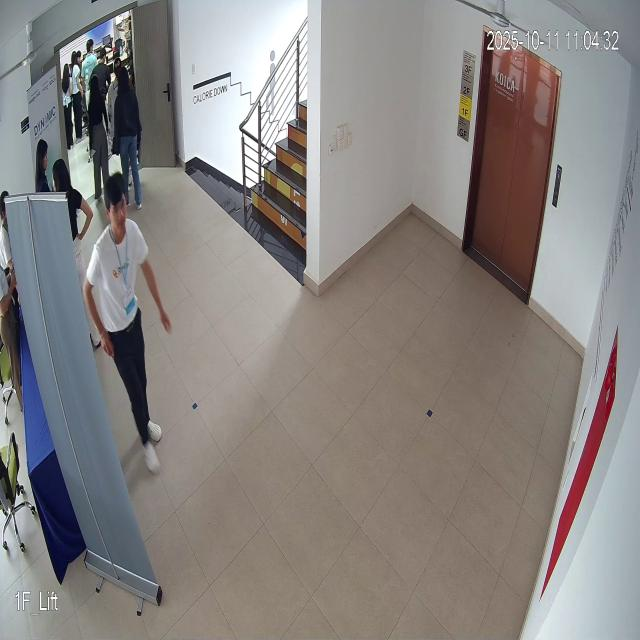face: (98, 170, 137, 234)
